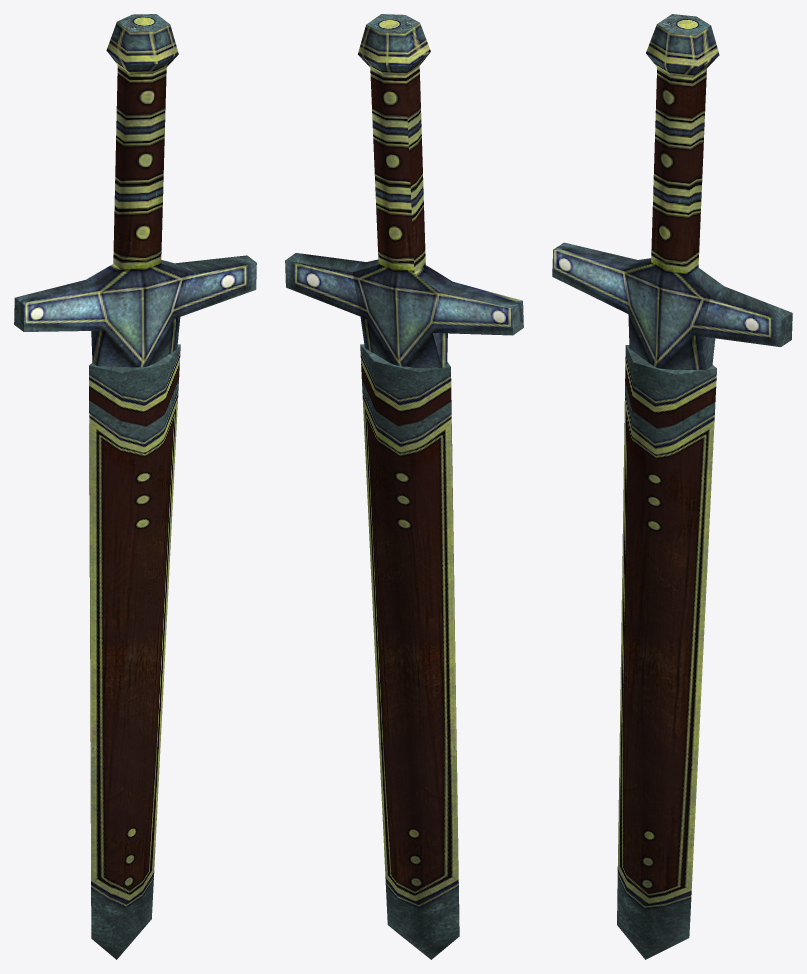
The model's file is 1H_Sword_E.FBX.
3 views of the same model, side by side, from view 1: azimuth 30°, elevation 25°; view 2: azimuth 150°, elevation 25°; view 3: azimuth 330°, elevation 25° (orthographic).
Parts seen in each view (by area): view 1: 1H_Sword_E_Skabbard, 1H_Sword_E; view 2: 1H_Sword_E_Skabbard, 1H_Sword_E; view 3: 1H_Sword_E_Skabbard, 1H_Sword_E.
Boxes of the visible parts, x1,y1,x2,y2 form: 1H_Sword_E_Skabbard: (89,344,180,959); 1H_Sword_E: (14,14,256,367); 1H_Sword_E_Skabbard: (360,344,459,959); 1H_Sword_E: (285,14,523,368); 1H_Sword_E_Skabbard: (617,345,716,959); 1H_Sword_E: (552,14,792,369).
Size of the model in its own units: 33.27 by 128 by 8.
